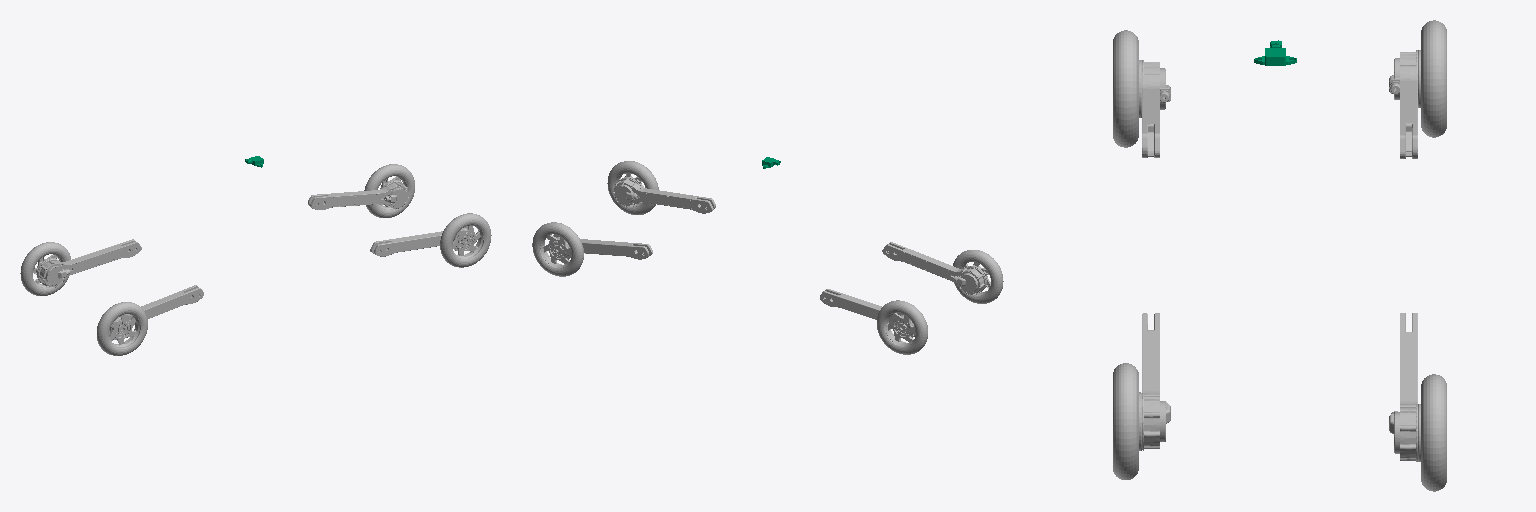
URDF robot description (nezha_description):
<?xml version="1.0" encoding="utf-8"?>

<robot
  name="nezha_description">


  <link name="base">
    <visual>
      <origin rpy="0 0 0" xyz="0 0 0"/>
      <geometry>
        <box size="0.001 0.001 0.001"/>
      </geometry>
    </visual>
  </link>
  <joint name="floating_base" type="fixed">
    <origin rpy="0 0 0" xyz="0 0 0"/>
    <parent link="base"/>
    <child link="trunk"/>
  </joint>



  <link
    name="trunk">
    <inertial>
      <origin
        xyz="-0.00000691 -0.00000693 -0.00000186"
        rpy="0 0 0" />
      <mass
        value="37.6" />
      <inertia
        ixx="0.59007413"
        ixy="0.0026156"
        ixz="0.004971"
        iyy="1.98506693"
        iyz="0.021971"
        izz="2.344962" />
    </inertial>
    <visual>
      <origin
        xyz="0 0 0"
        rpy="0 0 0" />
      <geometry>
        <mesh
          filename="../meshes/trunk.STL" />
      </geometry>
      <material
        name="">
        <color
          rgba="0.75294 0.75294 0.75294 1" />
      </material>
    </visual>
      <collision>
        <origin xyz="0.048 -0.027 -0.045"  rpy="0 0 0" />
        <geometry>
          <box size="1.121 0.400 0.230" />
        </geometry>
      </collision>
  </link>
    <link name="imu_fixed_link">
      <inertial>
        <origin xyz="-0.00353754349894037 4.2154628186554E-05 -0.00997114982725278"  rpy="0 0 0" />
        <mass value="0.0406912140939172" />
        <inertia 
          ixx="8.58656611098232E-06"
          ixy="1.44679601180708E-09"
          ixz="3.26182945796814E-08"
          iyy="6.09072078801729E-06"
          iyz="-7.38008178299839E-11"
          izz="1.19225496991543E-05" />
      </inertial>
      <visual>
        <origin xyz="0 0 0"  rpy="0 0 0" />
        <geometry>
          <mesh filename="../meshes/imu_fixed_joint.STL" />
        </geometry>
      </visual>
    </link>
    <joint name="imu_fixed_joint" type="fixed">
      <origin xyz="0.00112019201975541 -0.0364882468746482 0.0510999999999999" rpy="0 0 0" />
      <parent link="trunk" />
      <child link="imu_fixed_link" />
      <axis xyz="0 0 0" />
    </joint>
  <link
    name="Lidar">
    <inertial>
      <origin
        xyz="-0.095072 0.0080005 0.014752"
        rpy="0 0 0" />
      <mass
        value="1" />
      <inertia
        ixx="0.0060381"
        ixy="2.708E-06"
        ixz="-0.00034005"
        iyy="0.0073655"
        iyz="6.2148E-07"
        izz="0.0031135" />
    </inertial>
    <visual>
      <origin
        xyz="0 0 0"
        rpy="0 0 0" />
      <geometry>
        <mesh
          filename="../meshes/Lidar.STL" />
      </geometry>
      <material
        name="">
        <color
          rgba="0.75294 0.75294 0.75294 1" />
      </material>
    </visual>
    <!--空碰撞-->
  </link>
  <joint
    name="Lidar_fixed_joint"
    type="fixed">
    <origin
      xyz="0.6019 -0.041631 0.032239"
      rpy="0 0 0" />
    <parent
      link="trunk" />
    <child
      link="Lidar" />
    <axis
      xyz="1 0 0" />
  </joint>
  <link
    name="FL_hip">
    <inertial>
      <origin
        xyz="-0.016427 0.0038854 2.206E-06"
        rpy="0 0 0" />
      <mass
        value="3.1" />
      <inertia
        ixx="0.00586263"
        ixy="0.00040875"
        ixz="-3.064E-05"
        iyy="0.00941998"
        iyz="2.4E-07"
        izz="0.00823554" />
    </inertial>
    <visual>
      <origin
        xyz="0 0 0"
        rpy="0 0 0" />
      <geometry>
        <mesh
          filename="../meshes/FL_hip.STL" />
      </geometry>
      <material
        name="">
        <color
          rgba="0.75294 0.75294 0.75294 1" />
      </material>
    </visual>
    <!--空碰撞-->
  </link>
  <joint
    name="FL_hip_joint"
    type="revolute">
    <origin
      xyz="0.43304 0.056588 0.00014972"
      rpy="0 0 0" />
    <parent
      link="trunk" />
    <child
      link="FL_hip" />
    <axis
      xyz="1 0 0" />
    
    <limit
      lower="-1.31"
      upper="0.81"
      effort="150"
      velocity="12" />
  </joint>
  <link
    name="FL_thigh">
    <inertial>
      <origin
        xyz="-0.0051952 0.00015428 -0.092972"
        rpy="0 0 0" />
      <mass
        value="4.1" />
      <inertia
        ixx="0.07198856"
        ixy="-5.6758E-04"
        ixz="0.00301969"
        iyy="0.06899899"
        iyz="-0.00892753"
        izz="0.01143578" />
    </inertial>
    <visual>
      <origin
        xyz="0 0 0"
        rpy="0 0 0" />
      <geometry>
        <mesh
          filename="../meshes/FL_thigh.STL" />
      </geometry>
      <material
        name="">
        <color
          rgba="0.75294 0.75294 0.75294 1" />
      </material>
    </visual>
    <!--空碰撞-->
  </link>
  <joint
    name="FL_thigh_joint"
    type="revolute">
    <origin
      xyz="0 0.1324 0"
      rpy="0 0 0" />
    <parent
      link="FL_hip" />
    <child
      link="FL_thigh" />
    <axis
      xyz="0 1 0" />

    <limit
      lower="-1.5"
      upper="2.6"
      effort="150"
      velocity="12" />
  </joint>
  <link
    name="FL_calf">
    <inertial>
      <origin
        xyz="-0.00045097 -0.010664 -0.14659"
        rpy="0 0 0" />
      <mass
        value="0.8" />
      <inertia
        ixx="0.01454306"
        ixy="1.8E-07"
        ixz="8.077E-05"
        iyy="0.01488481"
        iyz="-0.00016534"
        izz="0.00041348" />
    </inertial>
    <visual>
      <origin
        xyz="0 0 0"
        rpy="0 0 0" />
      <geometry>
        <mesh
          filename="../meshes/FL_calf.STL" />
      </geometry>
      <material
        name="">
        <color
          rgba="0.75294 0.75294 0.75294 1" />
      </material>
    </visual>
      <collision>
        <origin xyz="0 -0.0 -0.170" rpy="0 0 0" />
        <geometry>
          <box size="0.05 0.045 0.390" />
        </geometry>
      </collision>
  </link>
  <joint
    name="FL_calf_joint"
    type="revolute">
    <origin
      xyz="0 0.0241 -0.33"
      rpy="0 0 0" />
    <parent
      link="FL_thigh" />
    <child
      link="FL_calf" />
    <axis
      xyz="0 1 0" />

    <limit
      lower="-2.3"
      upper="-0.52"
      effort="150"
      velocity="8" />
  </joint>
  <link
    name="FL_footmotor">
    <inertial>
      <origin
        xyz="-3.0983E-07 0.037959 0.0077964"
        rpy="0 0 0" />
      <mass
        value="1" />
      <inertia
        ixx="0.00122551"
        ixy="1.0E-08"
        ixz="8.9E-07"
        iyy="0.00121122"
        iyz="-0.00011534"
        izz="0.00111829" />
    </inertial>
    <visual>
      <origin
        xyz="0 0 0"
        rpy="0 0 0" />
      <geometry>
        <mesh
          filename="../meshes/FL_footmotor.STL" />
      </geometry>
      <material
        name="">
        <color
          rgba="0.75294 0.75294 0.75294 1" />
      </material>
    </visual>
    <!--空碰撞-->
  </link>
  <joint
    name="FL_footmotor_fixed"
    type="fixed">
    <origin
      xyz="0 -0.019084 -0.3352"
      rpy="0 0 0" />
    <parent
      link="FL_calf" />
    <child
      link="FL_footmotor" />
    <axis
      xyz="0 0 0" />
  </joint>
  <link
    name="FL_foot">
    <inertial>
      <origin
        xyz="2.5253E-10 -0.00082202 -5.8039E-08"
        rpy="0 0 0" />
      <mass
        value="0.8" />
      <inertia
        ixx="0.00322619"
        ixy="0.0"
        ixz="0.0"
        iyy="0.00620216"
        iyz="0.0"
        izz="0.00322620" />
    </inertial>
    <visual>
      <origin
        xyz="0 0 0"
        rpy="0 0 0" />
      <geometry>
        <mesh
          filename="../meshes/FL_foot.STL" />
      </geometry>
      <material
        name="">
        <color
          rgba="0.75294 0.75294 0.75294 1" />
      </material>
    </visual>
      <collision>
        <origin xyz="0 0.0 0" rpy="1.5707963267948966 0 0" />
        <geometry>
          <cylinder length="0.040" radius="0.105" />
        </geometry>
      </collision>
  </link>
  <joint
    name="FL_foot_joint"
    type="revolute">
    <origin
      xyz="0 0.067334 0.0052008"
      rpy="0 0 0" />
    <parent
      link="FL_footmotor" />
    <child
      link="FL_foot" />
    <axis
      xyz="0 1 0" />

    <limit
      lower="-9999"
      upper="9999"
      effort="56"
      velocity="47" />
  </joint>
  <link
    name="FR_hip">
    <inertial>
      <origin
        xyz="-0.016427 -0.0038854 -2.206E-06"
        rpy="0 0 0" />
      <mass
        value="3.1" />
      <inertia
        ixx="0.00586263"
        ixy="-0.00040875"
        ixz="3.064E-05"
        iyy="0.00941998"
        iyz="-2.4E-07"
        izz="0.00823554" />
    </inertial>
    <visual>
      <origin
        xyz="0 0 0"
        rpy="0 0 0" />
      <geometry>
        <mesh
          filename="../meshes/FR_hip.STL" />
      </geometry>
      <material
        name="">
        <color
          rgba="0.75294 0.75294 0.75294 1" />
      </material>
    </visual>
    <!--空碰撞-->
  </link>
  <joint
    name="FR_hip_joint"
    type="revolute">
    <origin
      xyz="0.43304 -0.11341 0.00014972"
      rpy="0 0 0" />
    <parent
      link="trunk" />
    <child
      link="FR_hip" />
    <axis
      xyz="1 0 0" />

    <limit
      lower="-0.8"
      upper="1.3"
      effort="150"
      velocity="12" />
  </joint>
  <link
    name="FR_thigh">
    <inertial>
      <origin
        xyz="-0.0055271 -0.00015362 -0.092992"
        rpy="0 0 0" />
      <mass
        value="4.1" />
      <inertia
        ixx="0.07200998"
        ixy="0.00045575"
        ixz="0.00288100"
        iyy="0.06900584"
        iyz="0.00892980"
        izz="0.01142712" />
    </inertial>
    <visual>
      <origin
        xyz="0 0 0"
        rpy="0 0 0" />
      <geometry>
        <mesh
          filename="../meshes/FR_thigh.STL" />
      </geometry>
      <material
        name="">
        <color
          rgba="0.75294 0.75294 0.75294 1" />
      </material>
    </visual>
    <!--空碰撞-->
  </link>
  <joint
    name="FR_thigh_joint"
    type="revolute">
    <origin
      xyz="0 -0.1324 0"
      rpy="0 0 0" />
    <parent
      link="FR_hip" />
    <child
      link="FR_thigh" />
    <axis
      xyz="0 1 0" />

    <limit
      lower="-1.6"
      upper="2.6"
      effort="150"
      velocity="12" />
  </joint>
  <link
    name="FR_calf">
    <inertial>
      <origin
        xyz="-0.00040423 -0.0007071 -0.14806"
        rpy="0 0 0" />
      <mass
        value="0.8" />
      <inertia
        ixx="0.01454129"
        ixy="-5.5E-07"
        ixz="-6.627E-05"
        iyy="0.01478402"
        iyz="9.312E-05"
        izz="0.00049281" />
    </inertial>
    <visual>
      <origin
        xyz="0 0 0"
        rpy="0 0 0" />
      <geometry>
        <mesh
          filename="../meshes/FR_calf.STL" />
      </geometry>
      <material
        name="">
        <color
          rgba="0.75294 0.75294 0.75294 1" />
      </material>
    </visual>
      <collision>
        <origin xyz="0 0.0 -0.170" rpy="0 0 0" />
        <geometry>
          <box size="0.05 0.045 0.390" />
        </geometry>
      </collision>
  </link>
  <joint
    name="FR_calf_joint"
    type="revolute">
    <origin
      xyz="0 -0.0241 -0.33"
      rpy="0 0 0" />
    <parent
      link="FR_thigh" />
    <child
      link="FR_calf" />
    <axis
      xyz="0 1 0" />

    <limit
      lower="-2.4"
      upper="-0.57"
      effort="150"
      velocity="8" />
  </joint>
  <link
    name="FR_footmotor">
    <inertial>
      <origin
        xyz="3.0956E-07 -0.037959 0.0077964"
        rpy="0 0 0" />
      <mass
        value="1" />
      <inertia
        ixx="0.00122551"
        ixy="1.0E-08"
        ixz="-8.9E-07"
        iyy="0.00121122"
        iyz="0.00011534"
        izz="0.00111829" />
    </inertial>
    <visual>
      <origin
        xyz="0 0 0"
        rpy="0 0 0" />
      <geometry>
        <mesh
          filename="../meshes/FR_footmotor.STL" />
      </geometry>
      <material
        name="">
        <color
          rgba="0.75294 0.75294 0.75294 1" />
      </material>
    </visual>
    <!--空碰撞-->
  </link>
  <joint
    name="FR_footmotor_fixed"
    type="fixed">
    <origin
      xyz="0 0.019084 -0.3352"
      rpy="0 0 0" />
    <parent
      link="FR_calf" />
    <child
      link="FR_footmotor" />
    <axis
      xyz="0 0 0" />
  </joint>
  <link
    name="FR_foot">
    <inertial>
      <origin
        xyz="-5.5178E-08 0.00082201 1.8207E-08"
        rpy="0 0 0" />
      <mass
        value="0.8" />
      <inertia
        ixx="0.00322619"
        ixy="0.0"
        ixz="0.0"
        iyy="0.00620216"
        iyz="0.0"
        izz="0.00322620" />
    </inertial>
    <visual>
      <origin
        xyz="0 0 0"
        rpy="0 0 0" />
      <geometry>
        <mesh
          filename="../meshes/FR_foot.STL" />
      </geometry>
      <material
        name="">
        <color
          rgba="0.75294 0.75294 0.75294 1" />
      </material>
    </visual>
      <collision>
        <origin xyz="0 -0.0 0" rpy="1.5707963267948966 0 0" />
        <geometry>
          <cylinder length="0.040" radius="0.105" />
        </geometry>
      </collision>
  </link>
  <joint
    name="FR_foot_joint"
    type="revolute">
    <origin
      xyz="0 -0.067334 0.0052008"
      rpy="0 0 0" />
    <parent
      link="FR_footmotor" />
    <child
      link="FR_foot" />
    <axis
      xyz="0 1 0" />

    <limit
      lower="-9999"
      upper="9999"
      effort="56"
      velocity="47" />
  </joint>
  <link
    name="RL_hip">
    <inertial>
      <origin
        xyz="0.016427 0.0038854 -2.206E-06"
        rpy="0 0 0" />
      <mass
        value="3.1" />
      <inertia
        ixx="0.00586263"
        ixy="-0.00040875"
        ixz="-0.00003064"
        iyy="0.00941998"
        iyz="0.00000024"
        izz="0.00823554" />
    </inertial>
    <visual>
      <origin
        xyz="0 0 0"
        rpy="0 0 0" />
      <geometry>
        <mesh
          filename="../meshes/RL_hip.STL" />
      </geometry>
      <material
        name="">
        <color
          rgba="0.75294 0.75294 0.75294 1" />
      </material>
    </visual>
    <!--空碰撞-->
  </link>
  <joint
    name="RL_hip_joint"
    type="revolute">
    <origin
      xyz="-0.42896 0.056588 0.00014972"
      rpy="0 0 0" />
    <parent
      link="trunk" />
    <child
      link="RL_hip" />
    <axis
      xyz="1 0 0" />

    <limit
      lower="-1.51"
      upper="0.8"
      effort="150"
      velocity="12" />
  </joint>
  <link
    name="RL_thigh">
    <inertial>
      <origin
        xyz="0.0055271 0.00015362 -0.092992"
        rpy="0 0 0" />
      <mass
        value="4.1" />
      <inertia
        ixx="0.07200998"
        ixy="0.00045575"
        ixz="-0.00288100"
        iyy="0.06900584"
        iyz="-0.00892980"
        izz="0.01142712" />
    </inertial>
    <visual>
      <origin
        xyz="0 0 0"
        rpy="0 0 0" />
      <geometry>
        <mesh
          filename="../meshes/RL_thigh.STL" />
      </geometry>
      <material
        name="">
        <color
          rgba="0.75294 0.75294 0.75294 1" />
      </material>
    </visual>
    <!--空碰撞-->
  </link>
  <joint
    name="RL_thigh_joint"
    type="revolute">
    <origin
      xyz="0 0.1324 0"
      rpy="0 0 0" />
    <parent
      link="RL_hip" />
    <child
      link="RL_thigh" />
    <axis
      xyz="0 1 0" />
 
    <limit
      lower="-2.6"
      upper="1.57"
      effort="150"
      velocity="12" />
  </joint>
  <link
    name="RL_calf">
    <inertial>
      <origin
        xyz="0.00040423 0.0007071 -0.14806"
        rpy="0 0 0" />
      <mass
        value="0.8" />
      <inertia
        ixx="0.01454129"
        ixy="-0.00000055"
        ixz="0.00006627"
        iyy="0.01478402"
        iyz="-0.00009312"
        izz="0.00049821" />
    </inertial>
    <visual>
      <origin
        xyz="0 0 0"
        rpy="0 0 0" />
      <geometry>
        <mesh
          filename="../meshes/RL_calf.STL" />
      </geometry>
      <material
        name="">
        <color
          rgba="0.75294 0.75294 0.75294 1" />
      </material>
    </visual>
      <collision>
        <origin xyz="0 -0.0 -0.170" rpy="0 0 0" />
        <geometry>
          <box size="0.05 0.045 0.390" />
        </geometry>
      </collision>
  </link>
  <joint
    name="RL_calf_joint"
    type="revolute">
    <origin
      xyz="0 0.0241 -0.33"
      rpy="0 0 0" />
    <parent
      link="RL_thigh" />
    <child
      link="RL_calf" />
    <axis
      xyz="0 1 0" />

    <limit
      lower="0.5"
      upper="2.47"
      effort="150"
      velocity="8" />
  </joint>
  <link
    name="RL_footmotor">
    <inertial>
      <origin
        xyz="-3.0956E-07 0.037959 0.0077964"
        rpy="0 0 0" />
      <mass
        value="1" />
      <inertia
        ixx="0.00122551"
        ixy="0.00000001"
        ixz="0.00000089"
        iyy="0.00121122"
        iyz="-0.00011534"
        izz="0.00111829" />
    </inertial>
    <visual>
      <origin
        xyz="0 0 0"
        rpy="0 0 0" />
      <geometry>
        <mesh
          filename="../meshes/RL_footmotor.STL" />
      </geometry>
      <material
        name="">
        <color
          rgba="0.75294 0.75294 0.75294 1" />
      </material>
    </visual>
    <!--空碰撞-->
  </link>
  <joint
    name="RL_footmotor_fixed"
    type="fixed">
    <origin
      xyz="0 -0.019084 -0.3352"
      rpy="0 0 0" />
    <parent
      link="RL_calf" />
    <child
      link="RL_footmotor" />
    <axis
      xyz="0 0 0" />
  </joint>
  <link
    name="RL_foot">
    <inertial>
      <origin
        xyz="5.5207E-08 -0.00082201 1.8119E-08"
        rpy="0 0 0" />
      <mass
        value="0.8" />
      <inertia
        ixx="0.00322619"
        ixy="0.0"
        ixz="0.0"
        iyy="0.00620216"
        iyz="0.0"
        izz="0.00322620" />
    </inertial>
    <visual>
      <origin
        xyz="0 0 0"
        rpy="0 0 0" />
      <geometry>
        <mesh
          filename="../meshes/RL_foot.STL" />
      </geometry>
      <material
        name="">
        <color
          rgba="0.75294 0.75294 0.75294 1" />
      </material>
    </visual>
      <collision>
        <origin xyz="0 0.0 0" rpy="1.5707963267948966 0 0" />
        <geometry>
          <cylinder length="0.040" radius="0.105" />
        </geometry>
      </collision>
  </link>
  <joint
    name="RL_foot_joint"
    type="revolute">
    <origin
      xyz="0 0.067334 0.0052008"
      rpy="0 0 0" />
    <parent
      link="RL_footmotor" />
    <child
      link="RL_foot" />
    <axis
      xyz="0 1 0" />

    <limit
      lower="-9999"
      upper="9999"
      effort="56"
      velocity="47" />
  </joint>
  <link
    name="RR_hip">
    <inertial>
      <origin
        xyz="0.016427 -0.0038854 2.2056E-06"
        rpy="0 0 0" />
      <mass
        value="3.1" />
      <inertia
        ixx="0.00586263"
        ixy="0.00040875"
        ixz="0.00003064"
        iyy="0.00941998"
        iyz="0.00000024"
        izz="0.00823554" />
    </inertial>
    <visual>
      <origin
        xyz="0 0 0"
        rpy="0 0 0" />
      <geometry>
        <mesh
          filename="../meshes/RR_hip.STL" />
      </geometry>
      <material
        name="">
        <color
          rgba="0.75294 0.75294 0.75294 1" />
      </material>
    </visual>
    <!--空碰撞-->
  </link>
  <joint
    name="RR_hip_joint"
    type="revolute">
    <origin
      xyz="-0.42896 -0.11341 0.00014972"
      rpy="0 0 0" />
    <parent
      link="trunk" />
    <child
      link="RR_hip" />
    <axis
      xyz="1 0 0" />

    <limit
      lower="-1.58"
      upper="0.79"
      effort="150"
      velocity="12" />
  </joint>
  <link
    name="RR_thigh">
    <inertial>
      <origin
        xyz="0.0051952 -0.00015428 -0.092972"
        rpy="0 0 0" />
      <mass
        value="4.1" />
      <inertia
        ixx="0.07198856"
        ixy="-0.00056758"
        ixz="-0.00301968"
        iyy="0.06899899"
        iyz="0.00892753"
        izz="0.01143578" />
    </inertial>
    <visual>
      <origin
        xyz="0 0 0"
        rpy="0 0 0" />
      <geometry>
        <mesh
          filename="../meshes/RR_thigh.STL" />
      </geometry>
      <material
        name="">
        <color
          rgba="0.75294 0.75294 0.75294 1" />
      </material>
    </visual>
    <!--空碰撞-->
  </link>
  <joint
    name="RR_thigh_joint"
    type="revolute">
    <origin
      xyz="0 -0.1324 0"
      rpy="0 0 0" />
    <parent
      link="RR_hip" />
    <child
      link="RR_thigh" />
    <axis
      xyz="0 1 0" />

    <limit
      lower="-2.6"
      upper="1.58"
      effort="150"
      velocity="12" />
  </joint>
  <link
    name="RR_calf">
    <inertial>
      <origin
        xyz="0.00045097 0.010664 -0.14659"
        rpy="0 0 0" />
      <mass
        value="0.8" />
      <inertia
        ixx="0.01454306"
        ixy="0.00000018"
        ixz="0.00008077"
        iyy="0.01488481"
        iyz="0.00016534"
        izz="0.00041348" />
    </inertial>
    <visual>
      <origin
        xyz="0 0 0"
        rpy="0 0 0" />
      <geometry>
        <mesh
          filename="../meshes/RR_calf.STL" />
      </geometry>
      <material
        name="">
        <color
          rgba="0.75294 0.75294 0.75294 1" />
      </material>
    </visual>
      <collision>
        <origin xyz="0 0.0 -0.170" rpy="0 0 0" />
        <geometry>
          <box size="0.05 0.045 0.390" />
        </geometry>
      </collision>
  </link>
  <joint
    name="RR_calf_joint"
    type="revolute">
    <origin
      xyz="0 -0.0241 -0.33"
      rpy="0 0 0" />
    <parent
      link="RR_thigh" />
    <child
      link="RR_calf" />
    <axis
      xyz="0 1 0" />

    <limit
      lower="0.45"
      upper="2.4"
      effort="150"
      velocity="8" />
  </joint>
  <link
    name="RR_footmotor">
    <inertial>
      <origin
        xyz="3.0956E-07 -0.037959 0.0077964"
        rpy="0 0 0" />
      <mass
        value="1" />
      <inertia
        ixx="0.00122551"
        ixy="0.00000001"
        ixz="-0.00000089"
        iyy="0.00121122"
        iyz="0.00011534"
        izz="0.00111829" />
    </inertial>
    <visual>
      <origin
        xyz="0 0 0"
        rpy="0 0 0" />
      <geometry>
        <mesh
          filename="../meshes/RR_footmotor.STL" />
      </geometry>
      <material
        name="">
        <color
          rgba="0.75294 0.75294 0.75294 1" />
      </material>
    </visual>
    <!--空碰撞-->
  </link>
  <joint
    name="RR_footmotor_fixed"
    type="fixed">
    <origin
      xyz="0 0.019084 -0.3352"
      rpy="0 0 0" />
    <parent
      link="RR_calf" />
    <child
      link="RR_footmotor" />
    <axis
      xyz="0 0 0" />
  </joint>
  <link
    name="RR_foot">
    <inertial>
      <origin
        xyz="5.6617E-08 0.00082201 -1.3061E-08"
        rpy="0 0 0" />
      <mass
        value="0.8" />
      <inertia
        ixx="0.00322619"
        ixy="0.0"
        ixz="0.0"
        iyy="0.00620216"
        iyz="0.0"
        izz="0.00322620" />
    </inertial>
    <visual>
      <origin
        xyz="0 0 0"
        rpy="0 0 0" />
      <geometry>
        <mesh
          filename="../meshes/RR_foot.STL" />
      </geometry>
      <material
        name="">
        <color
          rgba="0.75294 0.75294 0.75294 1" />
      </material>
    </visual>
      <collision>
        <origin xyz="0 -0.0 0" rpy="1.5707963267948966 0 0" />
        <geometry>
          <cylinder length="0.040" radius="0.105" />
        </geometry>
      </collision>
  </link>
  <joint
    name="RR_foot_joint"
    type="revolute">
    <origin
      xyz="0 -0.067334 0.0052008"
      rpy="0 0 0" />
    <parent
      link="RR_footmotor" />
    <child
      link="RR_foot" />
    <axis
      xyz="0 1 0" />

    <limit
      lower="-9999"
      upper="9999"
      effort="56"
      velocity="47" />
  </joint>




</robot>

--- What the picture shows (computed from the rendered views, not written in the file) ---
Views: 3 orthographic renders of the robot side by side, from view 1: azimuth 30°, elevation 25°; view 2: azimuth 150°, elevation 25°; view 3: azimuth 270°, elevation 25°.
Robot: nezha_description — 24 links, 23 joints (16 revolute, 7 fixed); root link base; default pose: all joints at 0 but 4 set to mid-range because 0 is outside their limits (FL_calf_joint = -1.41, FR_calf_joint = -1.49, RL_calf_joint = 1.49, RR_calf_joint = 1.43).
Links seen in each view (by area): view 1: FR_foot, RR_foot, RL_calf, RL_foot, FL_calf, FL_foot, FR_calf, RR_calf; view 2: FL_foot, RL_foot, RR_calf, FR_calf, RR_foot, FR_foot, FL_calf, RL_calf; view 3: FR_foot, RR_foot, FL_foot, RL_foot, FL_calf, FR_calf, RL_calf, RR_calf, imu_fixed_link, FL_footmotor.
Link boxes in pixels (x1,y1,x2,y2): FR_foot: (440,213,491,267); RR_foot: (97,302,147,355); RL_calf: (38,239,141,287); RL_foot: (20,242,70,295); FL_calf: (308,181,409,209); FL_foot: (364,164,414,217); FR_calf: (370,231,442,256); RR_calf: (127,285,203,324); FL_foot: (532,222,583,276); RL_foot: (877,300,927,354); RR_calf: (882,242,985,294); FR_calf: (613,178,715,213); RR_foot: (953,250,1003,303); FR_foot: (607,161,658,214); FL_calf: (580,239,652,259); RL_calf: (820,289,893,323); FR_foot: (1113,363,1138,479); RR_foot: (1113,30,1138,147); FL_foot: (1421,374,1446,491); RL_foot: (1421,20,1446,137); FL_calf: (1400,313,1417,461); FR_calf: (1142,313,1159,450); RL_calf: (1400,50,1417,158); RR_calf: (1142,60,1159,157); imu_fixed_link: (1254,40,1296,65); FL_footmotor: (1389,404,1420,461).
Size in the robot's own frame: 1.74 by 0.6277 by 0.5484 metres.
13 mesh visuals loaded from 23 distinct referenced files (13 binary STL); not drawn: 10 (reference not matched to a file when rendering).
